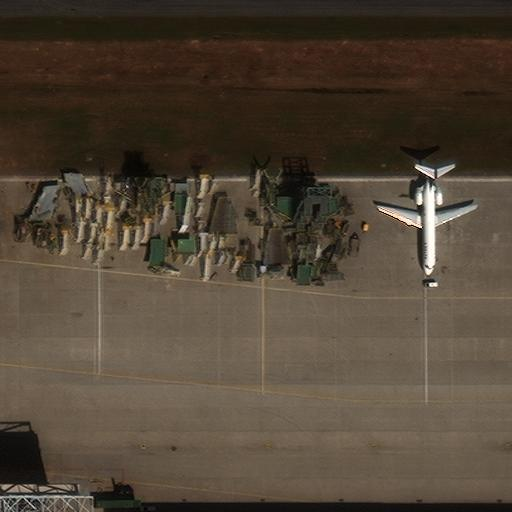Medium Civil Transport: (378, 168, 476, 275)
